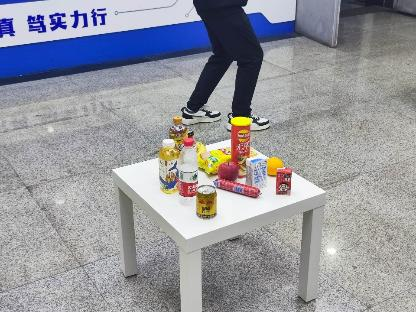Can: (196, 185, 218, 219)
Others: (230, 113, 249, 161), (245, 156, 267, 189), (276, 168, 292, 198)
Plastic Bottle: (180, 141, 196, 205)
